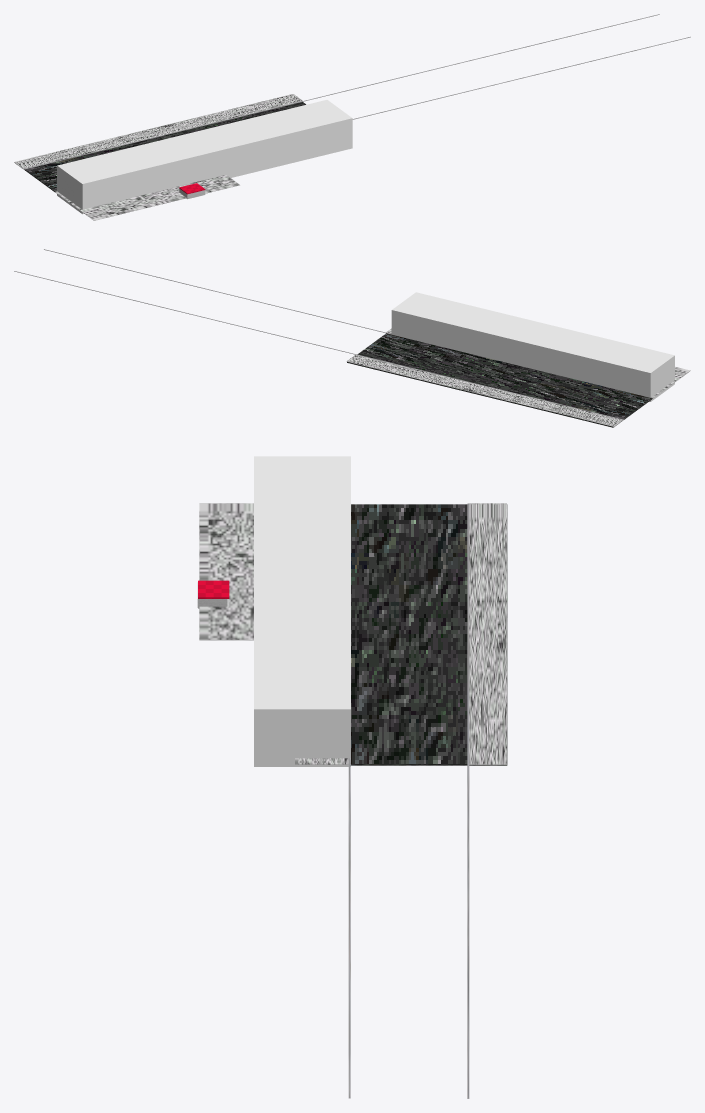
File: level-2.gltf
3 renders of one model, top to bottom at view 1: azimuth 30°, elevation 25°; view 2: azimuth 150°, elevation 25°; view 3: azimuth 270°, elevation 25°, orthographic. The views are drawn at different scales.
Parts seen in each view (by area): view 1: Parede invisivel2, CSGCombiner3D6; view 2: Parede invisivel2, CSGCombiner3D6; view 3: CSGCombiner3D6, Parede invisivel2.
Boxes of the visible parts, x1,y1,x2,y2 form: Parede invisivel2: (57, 100, 352, 214); CSGCombiner3D6: (14, 14, 690, 220); Parede invisivel2: (391, 292, 674, 401); CSGCombiner3D6: (14, 249, 690, 427); CSGCombiner3D6: (199, 503, 507, 1098); Parede invisivel2: (254, 456, 350, 766).
Bounding box in the file's own units: 714 × 32.4 × 157.
Materials: 19 (18 with a texture image).
